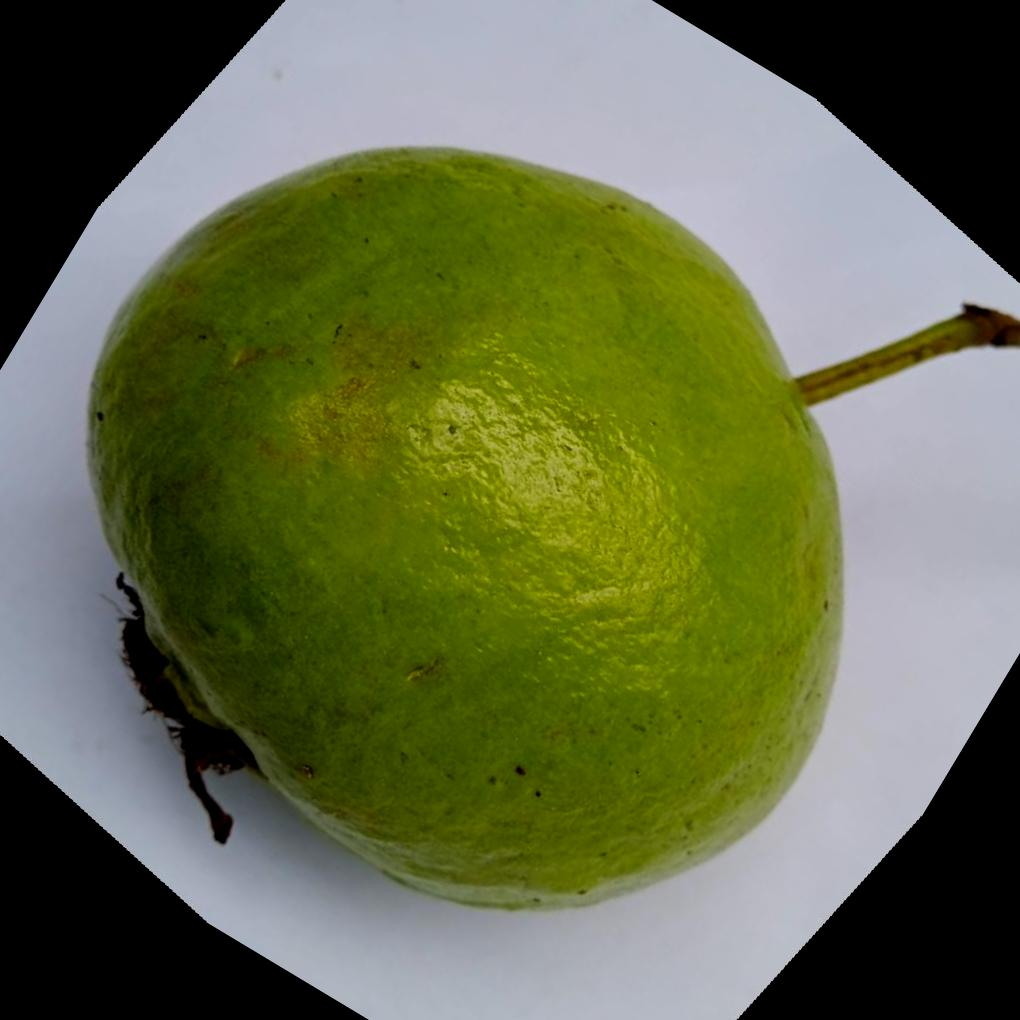FreshGuava: (81, 145, 844, 917)
